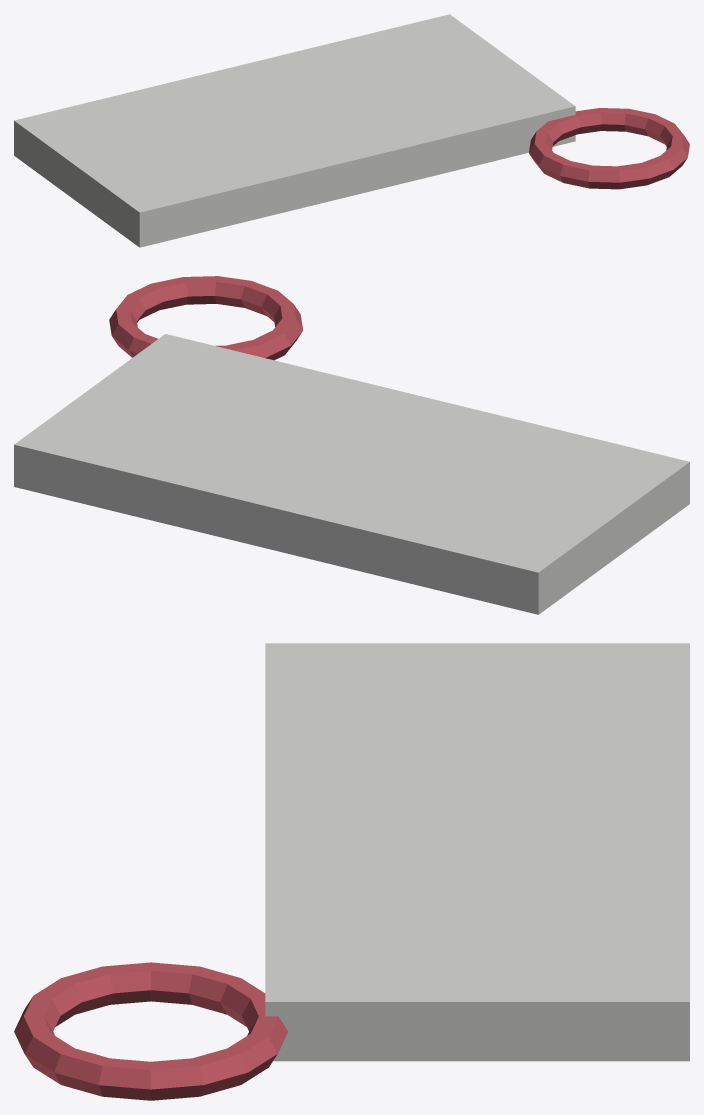
3 views of the same model, one above another, from view 1: azimuth 30°, elevation 25°; view 2: azimuth 150°, elevation 25°; view 3: azimuth 270°, elevation 25° (orthographic). The views are drawn at different scales.
Parts seen in each view (by area): view 1: geometry_0; view 2: geometry_0; view 3: geometry_0.
Boxes of the visible parts, box(x1,y1,x2,y2) form: geometry_0: box(14, 14, 689, 247); geometry_0: box(14, 276, 689, 614); geometry_0: box(14, 643, 689, 1100).
Size of the model in its own units: 0.151 by 0.01 by 0.1035.
